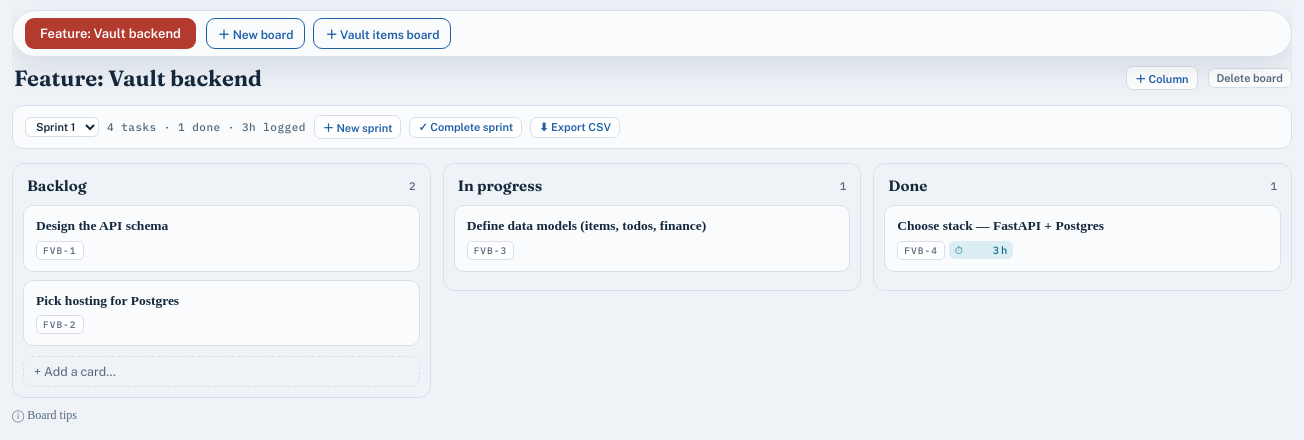
Scenario: CustomBoards — Vault items board is opt-in (item #5) › shows a 'No boards yet' empty state after the last board is deleted
Expected: the tab "Feature: Vault backend" is shown, [25,18,196,49]
Step 1. Click the button "Delete board" → point(1250, 78), box [1208,68,1292,88]
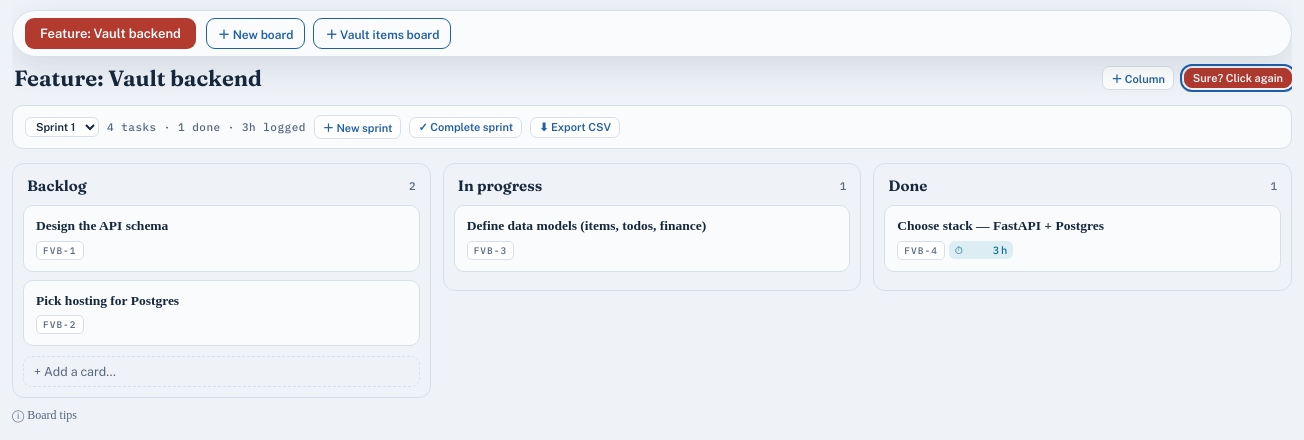
Step 2. Click the button "Sure? Click again" → point(1238, 78), box [1184,68,1292,88]
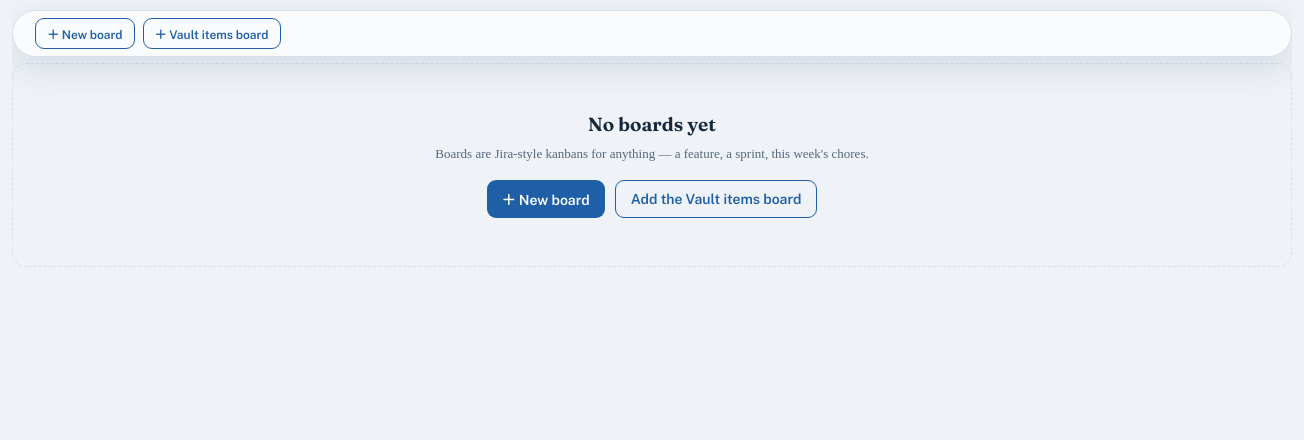
Now the text "No boards yet" is shown, box [588,112,716,136]
Now the button "＋ New board" below "No boards yet" is shown, box [486,180,605,218]
Now the button "Add the Vault items board" is shown, box [615,180,818,218]
